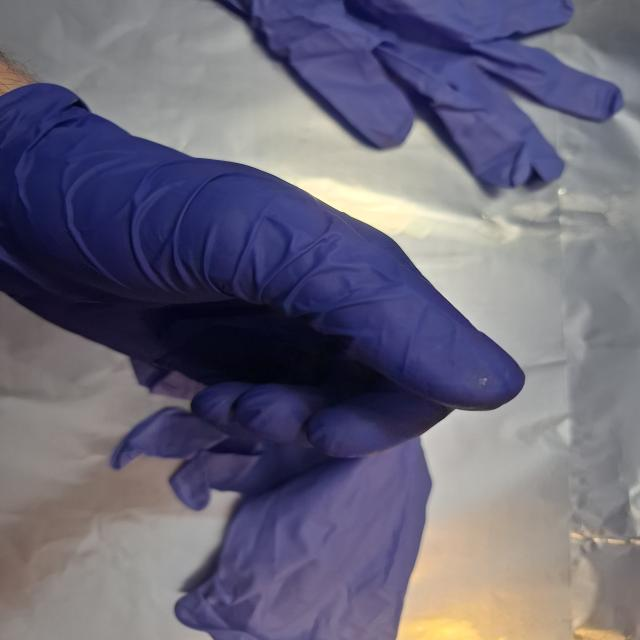glove_on: (0, 80, 529, 460)
